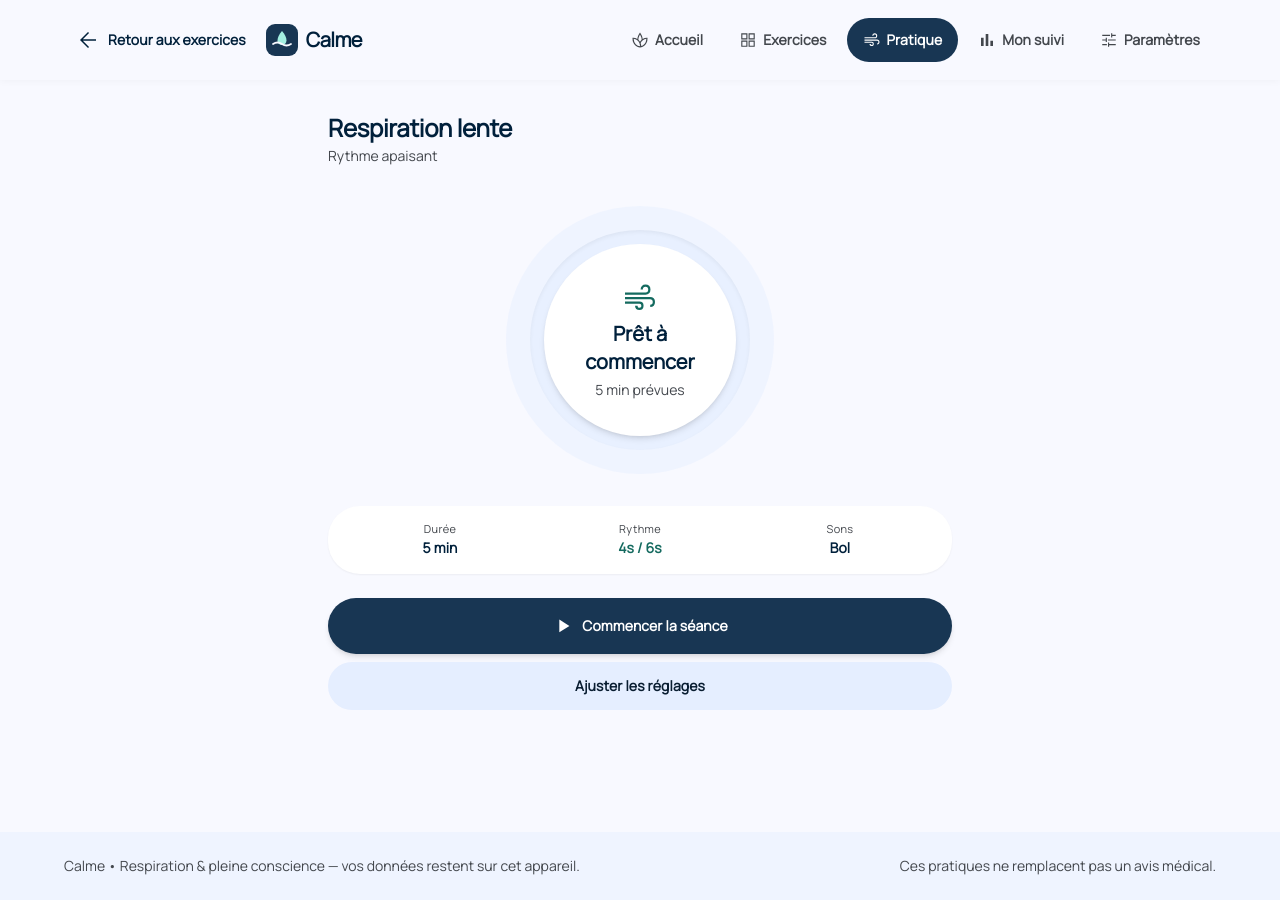
Test: slow breathing practice › cancelling never creates a record
Step 1. Click the button "Commencer la séance" → [640, 626], box x1=328 y1=598 x2=952 y2=654
Wait 20000 ms
(page scrolled)
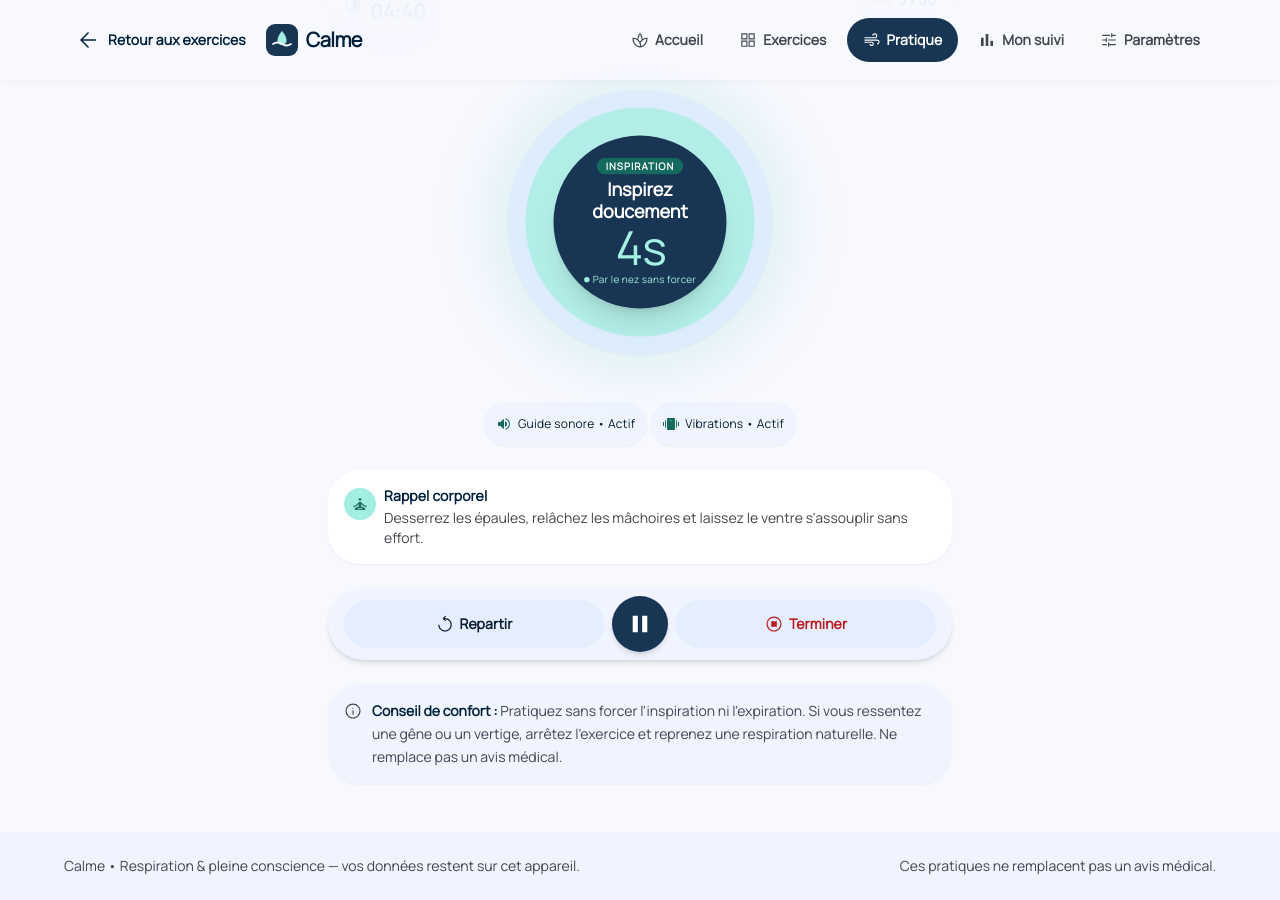
Step 2. Click the button "Terminer" → [806, 624], box x1=676 y1=600 x2=936 y2=648
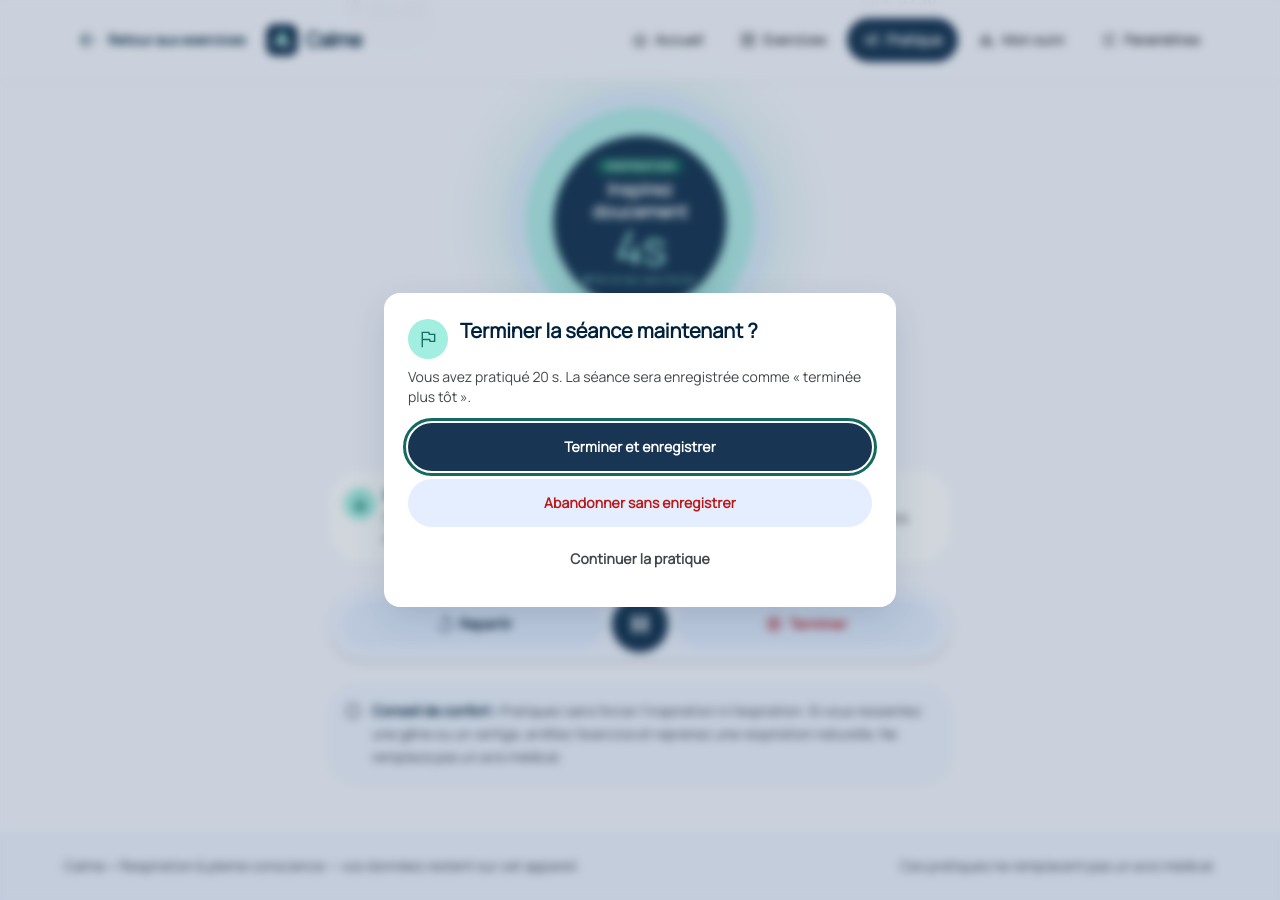
Step 3. Click the button "Abandonner sans enregistrer" → [640, 503], box x1=408 y1=479 x2=872 y2=527
(page scrolled)
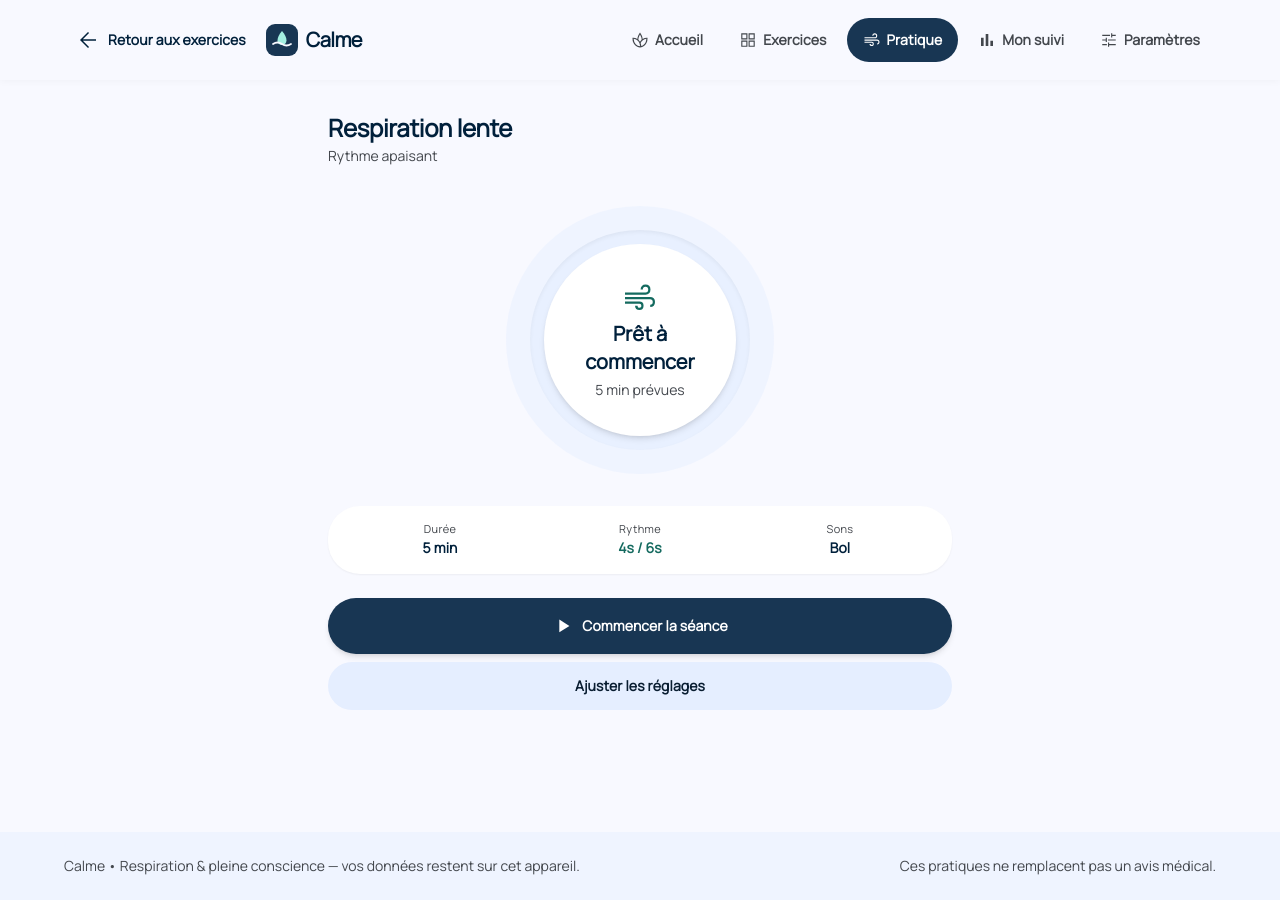
expect the button "Commencer la séance" is shown: met, box x1=328 y1=598 x2=952 y2=654
